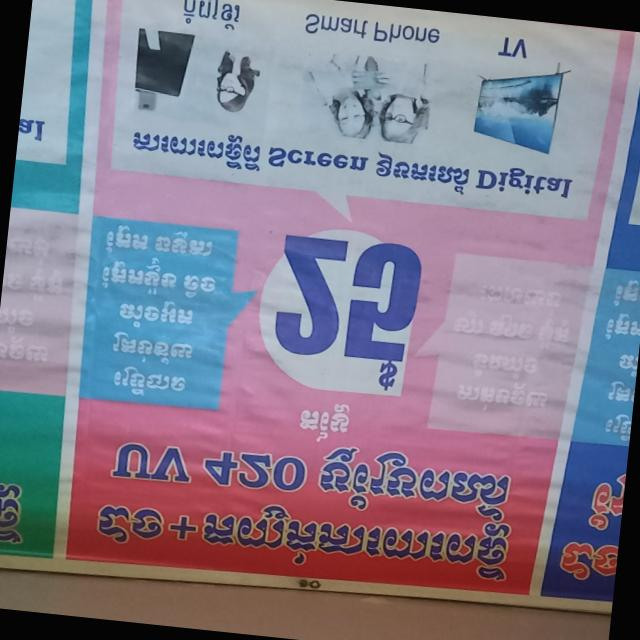1: (451, 306, 579, 355), (98, 254, 224, 301), (98, 222, 219, 262)
678: (269, 232, 432, 365)
753: (195, 447, 308, 499)
893: (312, 444, 513, 522)
Yolov11_80vkh: (199, 502, 520, 588), (120, 125, 261, 175), (364, 149, 477, 202), (452, 376, 556, 418), (103, 330, 203, 367), (475, 278, 572, 316), (94, 502, 168, 551), (293, 398, 366, 444), (118, 298, 199, 337), (110, 364, 195, 401), (176, 0, 251, 36), (469, 351, 548, 383)
